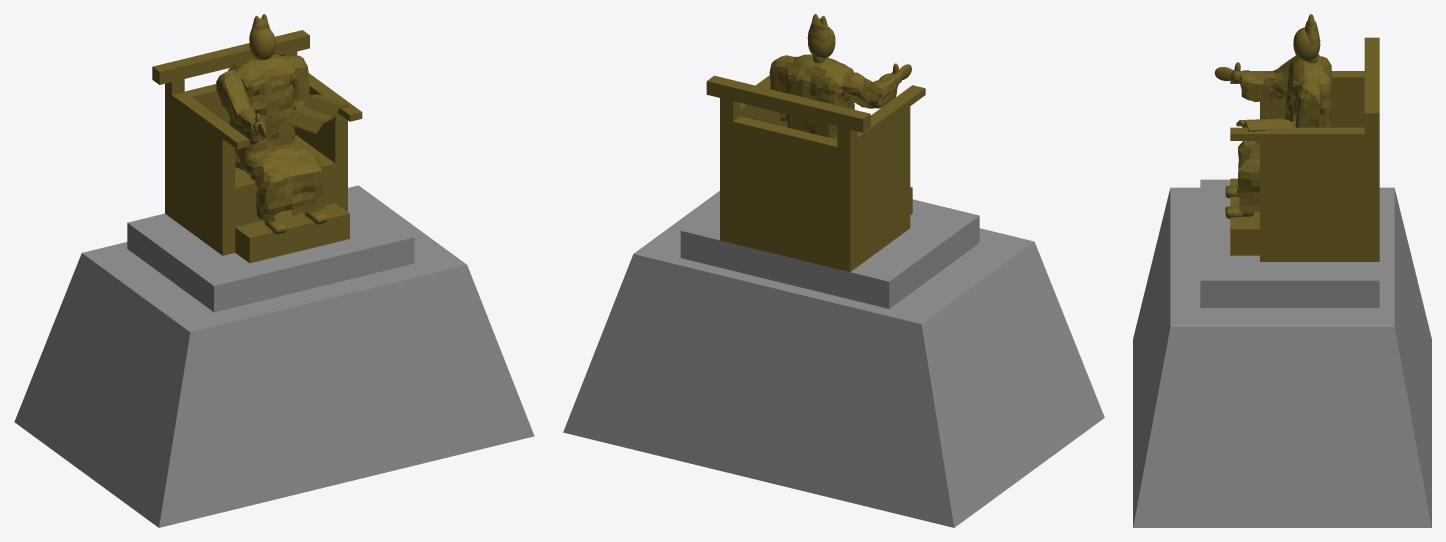
File: KingSejong.glb
The picture shows the model from 3 angles, left to right: view 1: azimuth 30°, elevation 25°; view 2: azimuth 150°, elevation 25°; view 3: azimuth 270°, elevation 25°; orthographic projection. The views are drawn at different scales.
Parts seen in each view (by area): view 1: Cube; view 2: Cube; view 3: Cube.
Part boxes in pixels (x1,y1,x2,y2): Cube: (14,14,534,527); Cube: (563,14,1104,527); Cube: (1133,14,1431,527).
Bounding box in the file's own units: 3 × 3.08 × 2.
